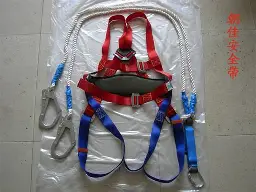safety belt: (59, 7, 216, 188)
